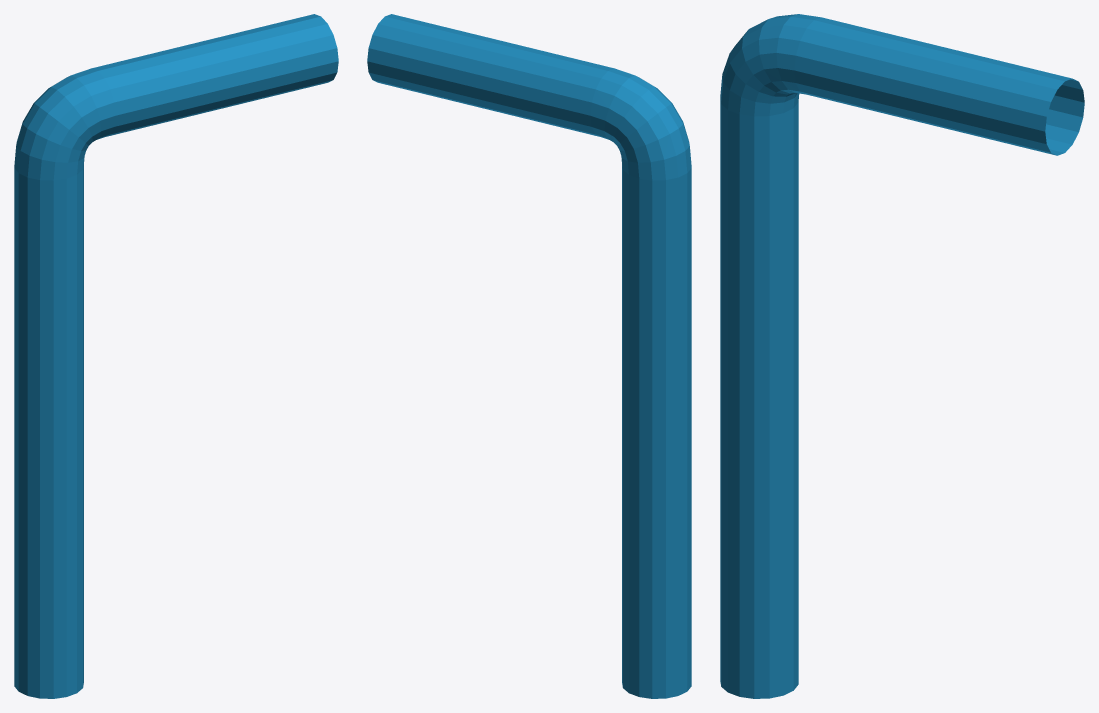
Rendered from cell_112.obj.
The picture shows the model from 3 angles, left to right: view 1: azimuth 30°, elevation 25°; view 2: azimuth 150°, elevation 25°; view 3: azimuth 330°, elevation 25°; orthographic projection. The views are drawn at different scales.
Size of the model in its own units: 0.278 by 0.528 by 0.056.
